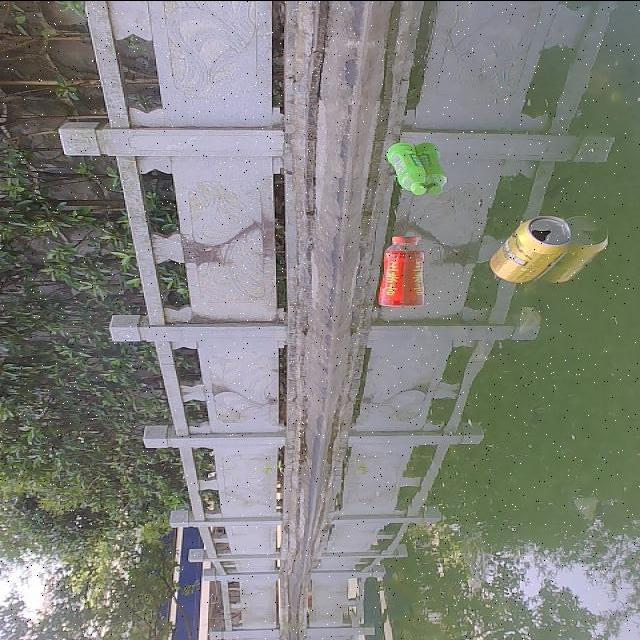Bottle: (371, 226, 421, 314), (381, 135, 438, 199)
Can: (486, 208, 578, 289)
